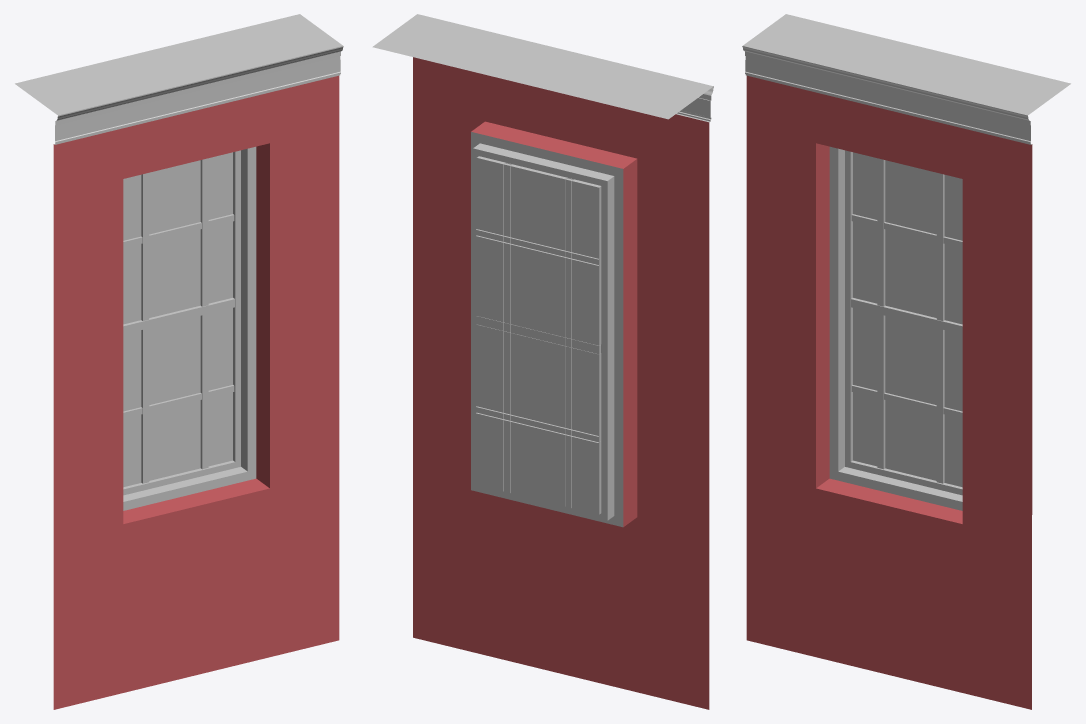
The model's file is station_window_2.fbx.
3 views of the same model, side by side, from view 1: azimuth 30°, elevation 25°; view 2: azimuth 150°, elevation 25°; view 3: azimuth 330°, elevation 25° (orthographic). The views are drawn at different scales.
Visible parts, largest first — view 1: window_2; view 2: window_2; view 3: window_2.
Part boxes in pixels (left/top/right/bottom): window_2: left=15, top=14, right=343, bottom=709; window_2: left=372, top=14, right=713, bottom=709; window_2: left=742, top=14, right=1070, bottom=709.
Size of the model in its own units: 1.8 by 3.6 by 0.4762.
